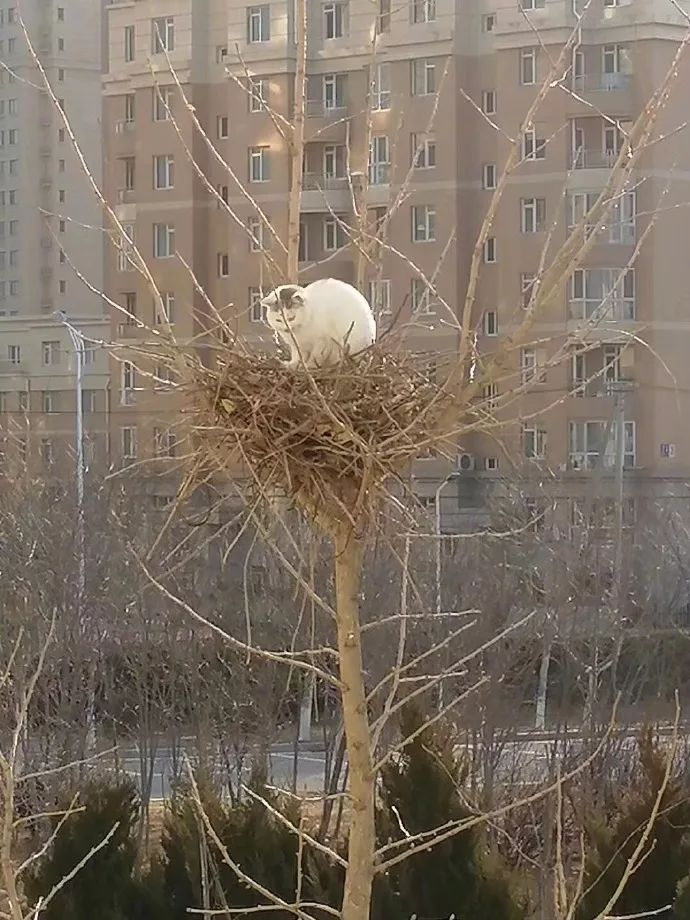bird-nest: (205, 356, 458, 509)
